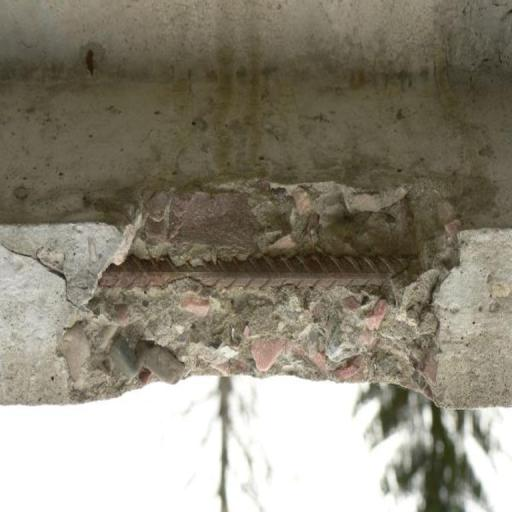spalling: (120, 184, 456, 394)
